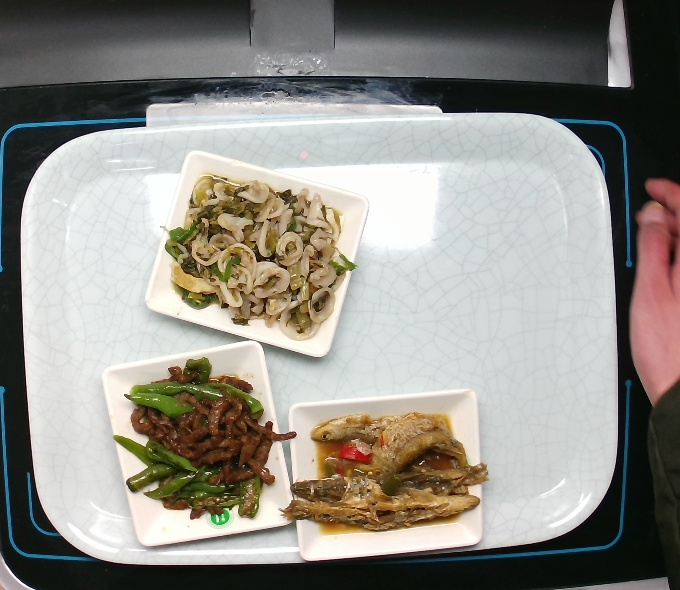wcq-QingJiaoNiuRou: (111, 354, 297, 529)
wcq-XiaoXiYu: (279, 408, 491, 534)
wcq-XueCaiYouYu: (154, 163, 359, 343)
